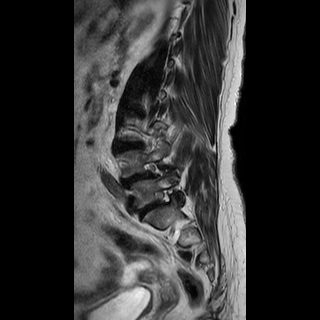LFS1: (145, 185, 179, 212)
